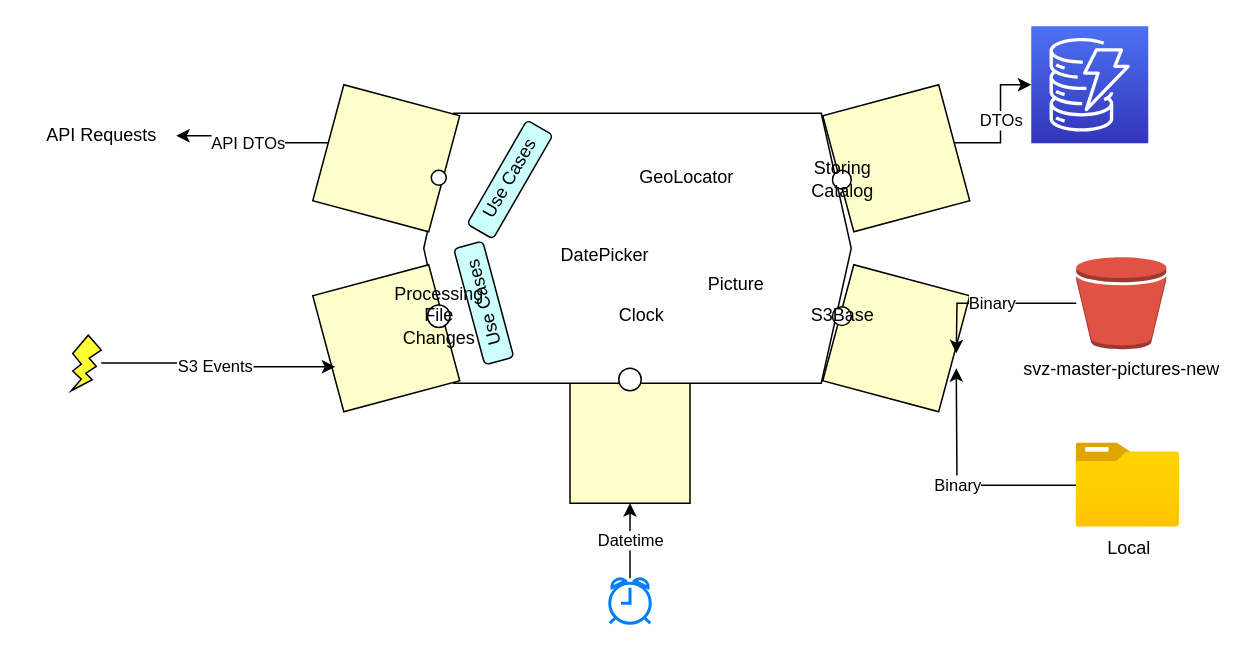
This 1245x651 diagram has some shape labels left out. Here are the shapes that lost their labels. From the top down, the centre of each, then its label:
At point (1089, 84): "Catalog".
At point (385, 157): "Processing Requests?".
At point (629, 379): "Telling Time".
